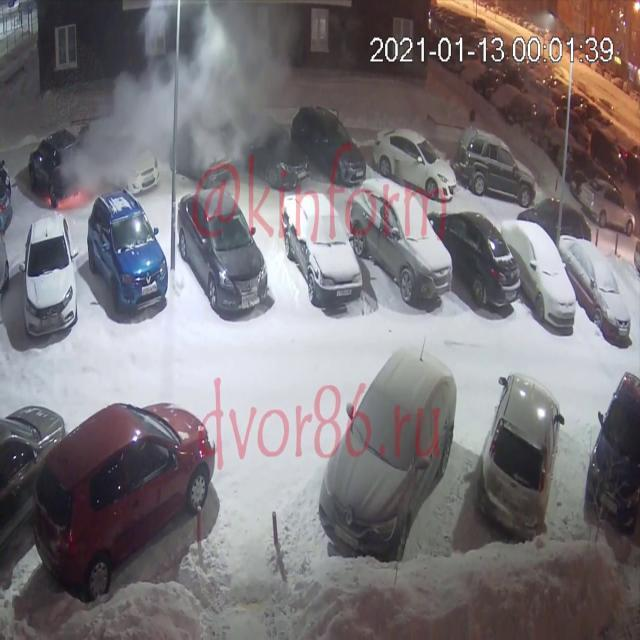Smoke: (61, 1, 302, 193)
